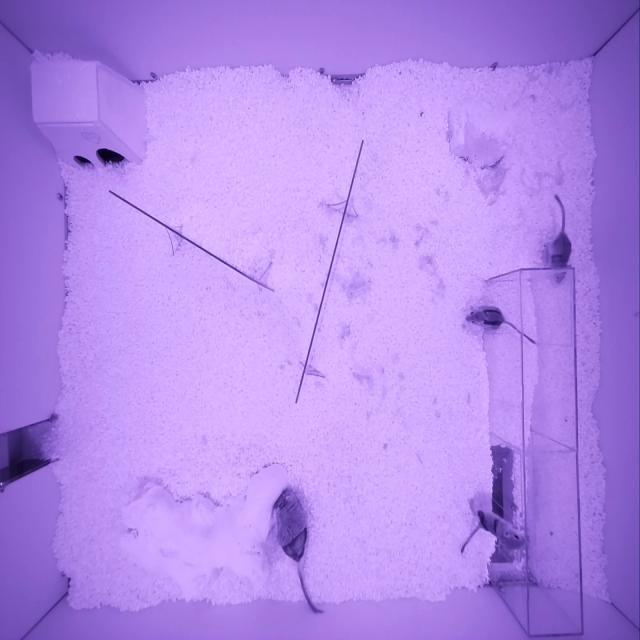adult_back: (276, 488, 306, 561)
adult_front: (547, 232, 571, 284)
pup_h_stripe: (477, 510, 527, 550)
pup_v_stripe: (465, 305, 504, 331)
